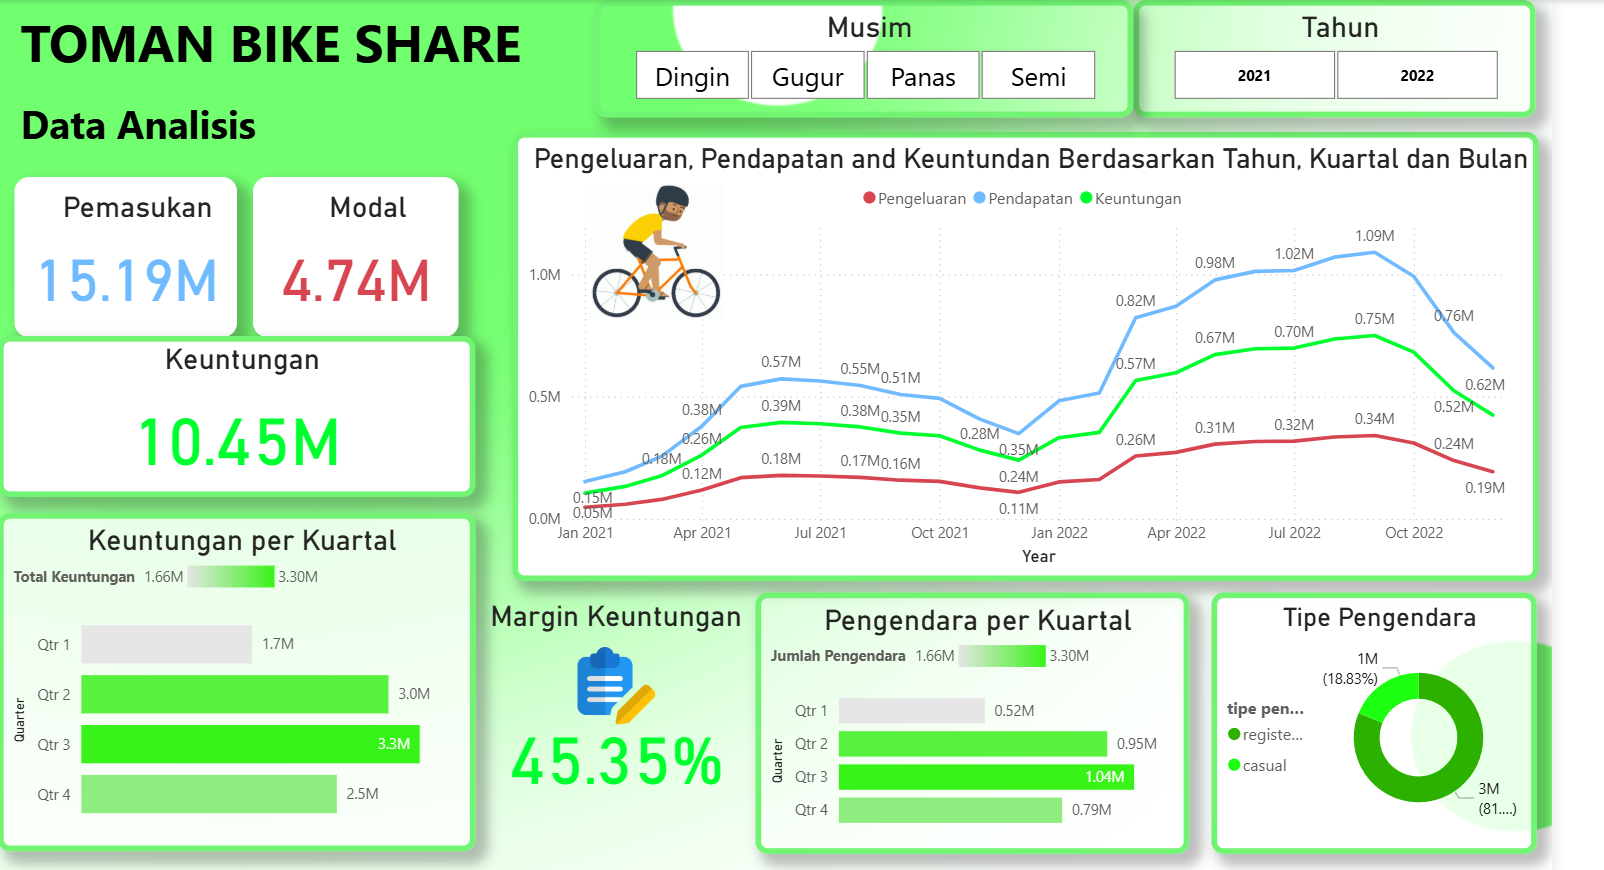

What the dashboard file says about the page in this screenshot:
{"tool":"powerbi","page":{"name":"KPI","canvas":[1280,720],"ordinal":0},"visuals":[{"type":"lineChart","title":"Pengeluaran, Pendapatan and Keuntundan Berdasarkan Tahun, Kuartal dan Bulan","fields":{"Category":["Query1.tanggal.Variation.Date Hierarchy.Year","Query1.tanggal.Variation.Date Hierarchy.Quarter","Query1.tanggal.Variation.Date Hierarchy.Month"],"Y":["Sum(Query1.Pengeluaran)","Sum(Query1.Pendapatan)","Sum(Query1.Keuntungan)"]},"box":[423.3,108.3,845,370],"z":0},{"type":"slicer","title":"Tahun","fields":{"Values":["Query1.tahun"]},"box":[935.8,0,331.6,96.9],"z":1000},{"type":"card","title":"Pemasukan","fields":{"Values":["Sum(Query1.Pendapatan)"]},"box":[13.6,145.4,183.2,131.7],"z":2000},{"type":"card","title":"Modal","fields":{"Values":["Sum(Query1.Pengeluaran)"]},"box":[210.5,145.4,169.6,131.7],"z":3000},{"type":"card","title":"Keuntungan","fields":{"Values":["Sum(Query1.Keuntungan)"]},"box":[0,277.1,393.3,132.5],"z":4000},{"type":"barChart","title":"Keuntungan per Kuartal","fields":{"Y":["Sum(Query1.Keuntungan)"],"Category":["Query1.tanggal.Variation.Date Hierarchy.Quarter"]},"box":[0,423.1,393.3,278.5],"z":5000},{"type":"donutChart","title":"Tipe Pengendara","fields":{"Category":["Query1.tipe_pengendara"],"Y":["Sum(Query1.pengendara)"]},"box":[999.4,487.6,268,215],"z":6000},{"type":"cardVisual","fields":{"Data":["Sum(Query1.a_suhu)"]},"box":[466.4,134.8,157.5,142.3],"z":7000},{"type":"barChart","title":"Pengendara per Kuartal","fields":{"Category":["Query1.tanggal.Variation.Date Hierarchy.Quarter"],"Y":["Sum(Query1.pengendara)"]},"box":[623.9,487.6,357.4,215],"z":8000},{"type":"card","title":"Margin Keuntungan","fields":{"Values":["Query1.Margin Keuntungan"]},"box":[393.7,493.6,230.2,225.6],"z":9000},{"type":"image","box":[472.4,510.3,74.2,109],"z":10000},{"type":"textbox","box":[13.6,0,422.5,163.5],"z":11000},{"type":"slicer","title":"Musim","fields":{"Values":["Query1.musim"]},"box":[492.1,0,443.7,96.9],"z":12000}]}

Visuals, with their boxes on the page's 1280x720 design canvas (x1, y1, x2, y2). These are canvas units, not pixel positions in the 1604x870 screenshot, which may show the page scaled, cropped or inside an application window:
"Pengeluaran, Pendapatan and Keuntundan Berdasarkan Tahun, Kuartal dan Bulan" lineChart: [423, 108, 1268, 478]
"Tahun" slicer: [936, 0, 1267, 97]
"Pemasukan" card: [14, 145, 197, 277]
"Modal" card: [210, 145, 380, 277]
"Keuntungan" card: [0, 277, 393, 410]
"Keuntungan per Kuartal" barChart: [0, 423, 393, 702]
"Tipe Pengendara" donutChart: [999, 488, 1267, 703]
cardVisual - Sum(Query1.a_suhu): [466, 135, 624, 277]
"Pengendara per Kuartal" barChart: [624, 488, 981, 703]
"Margin Keuntungan" card: [394, 494, 624, 719]
image: [472, 510, 547, 619]
textbox: [14, 0, 436, 164]
"Musim" slicer: [492, 0, 936, 97]
